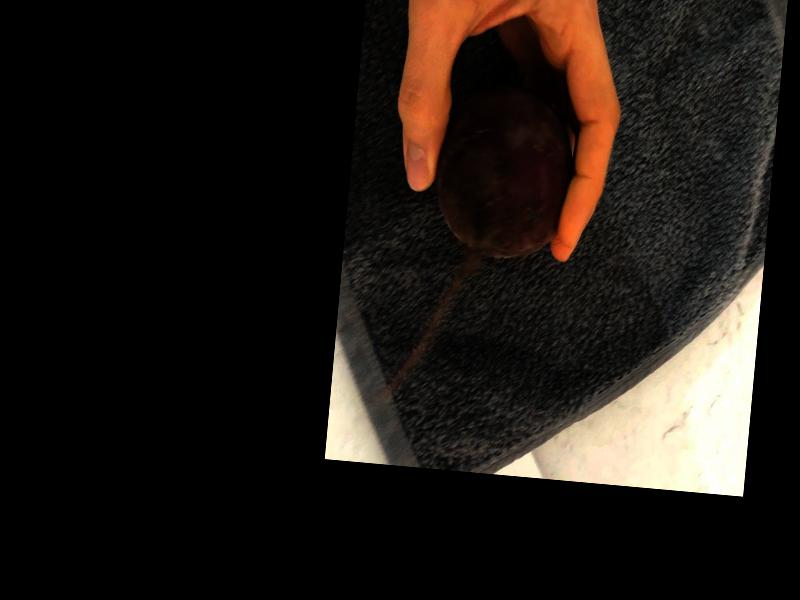Beet: (429, 79, 578, 262)
